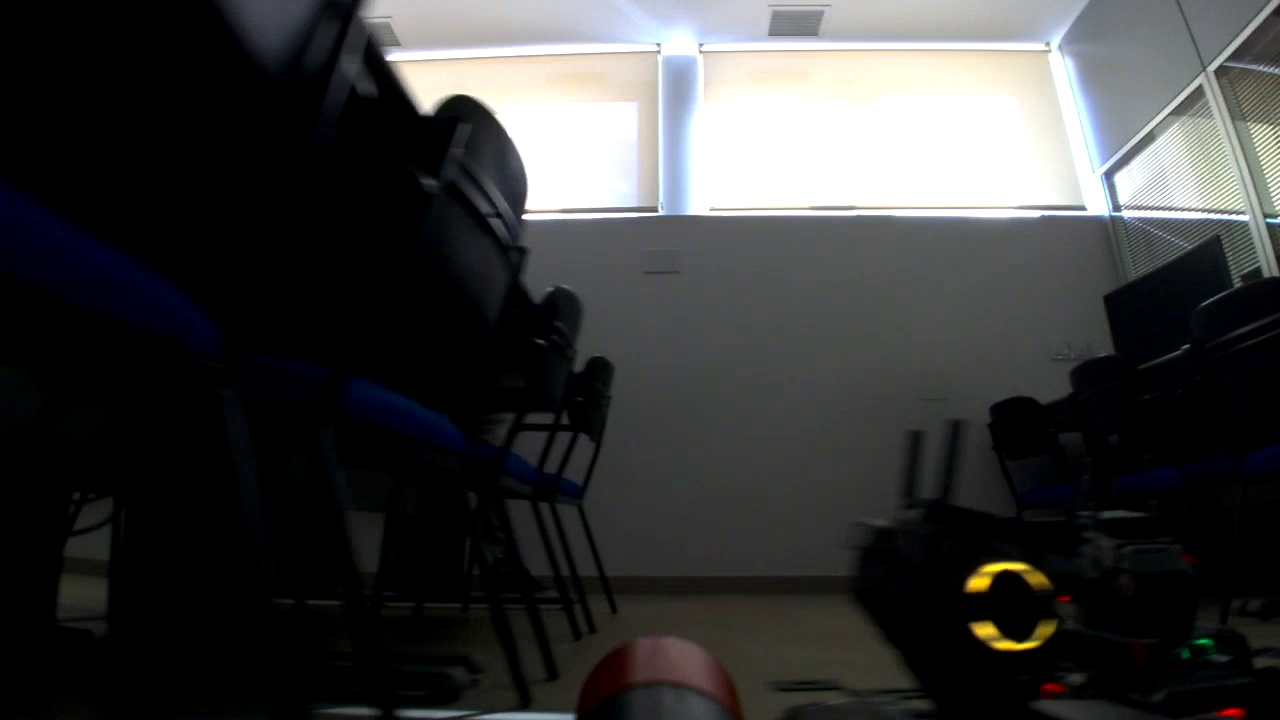robot: (752, 420, 1280, 720)
